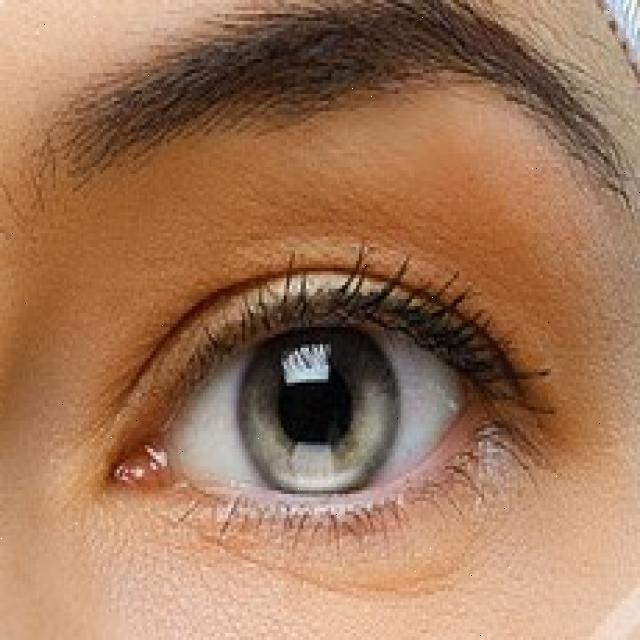Normal: (236, 313, 406, 501)
